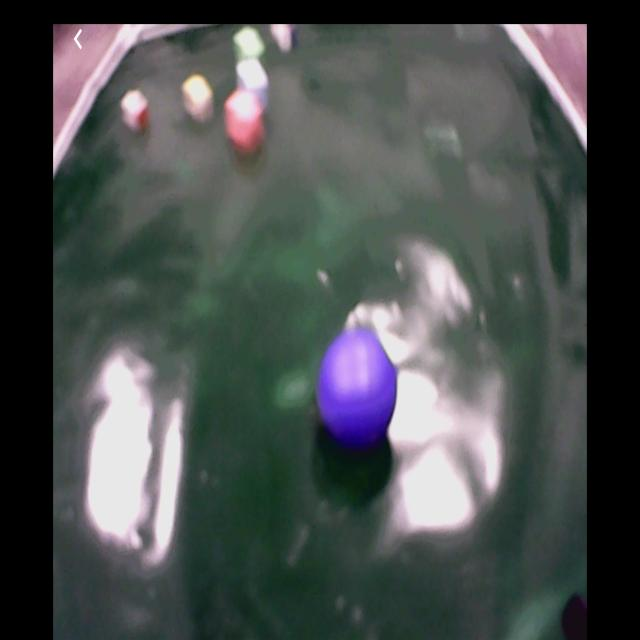ball: (318, 330, 397, 445)
